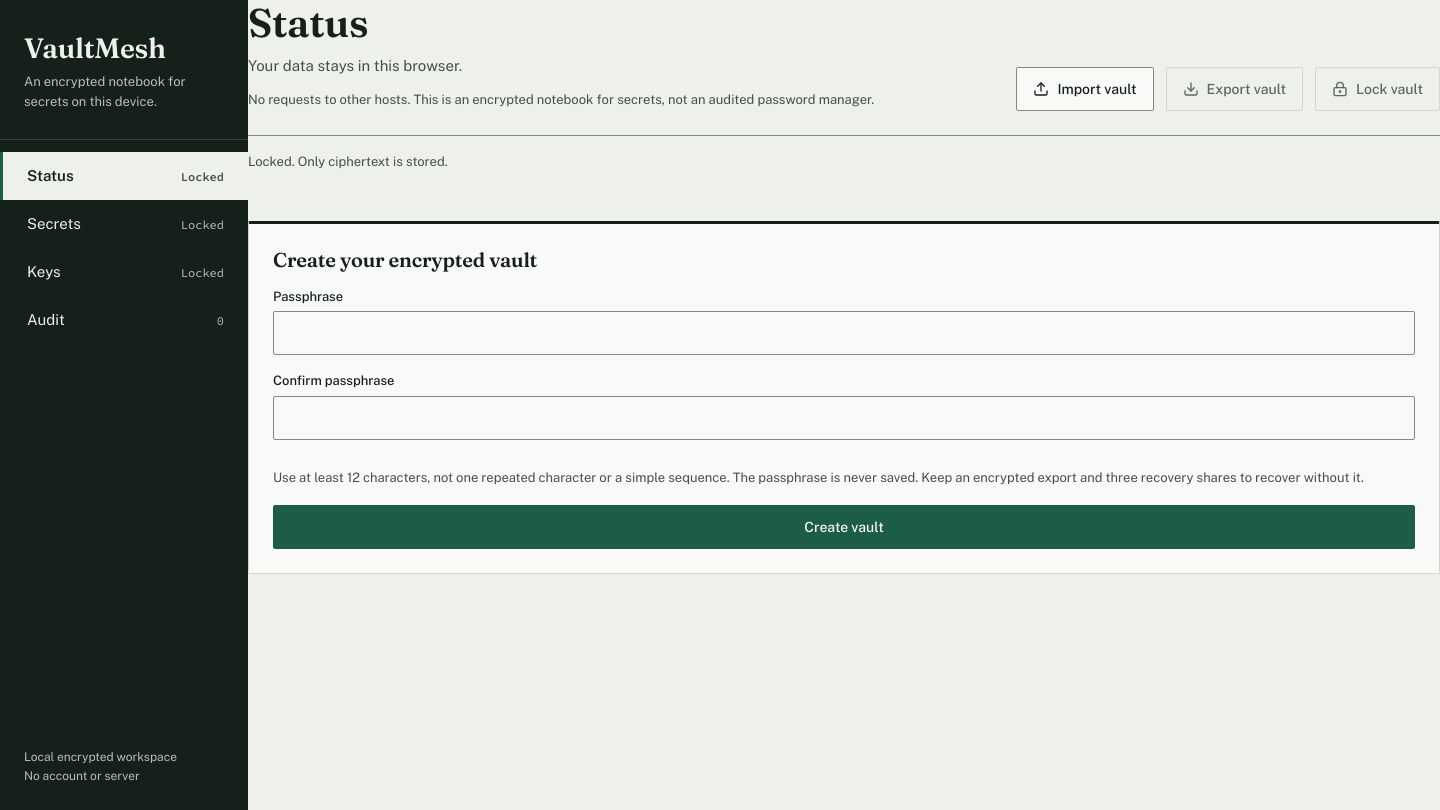
it: local encrypted notebook › moves focus to the secret form when editing
Step 1. Type "synthetic page passphrase" into the password field labelled "Passphrase" → [844, 333], box left=273, top=311, right=1415, bottom=355
Step 2. Type "synthetic page passphrase" into the password field labelled "Confirm passphrase" → [844, 418], box left=273, top=396, right=1415, bottom=440
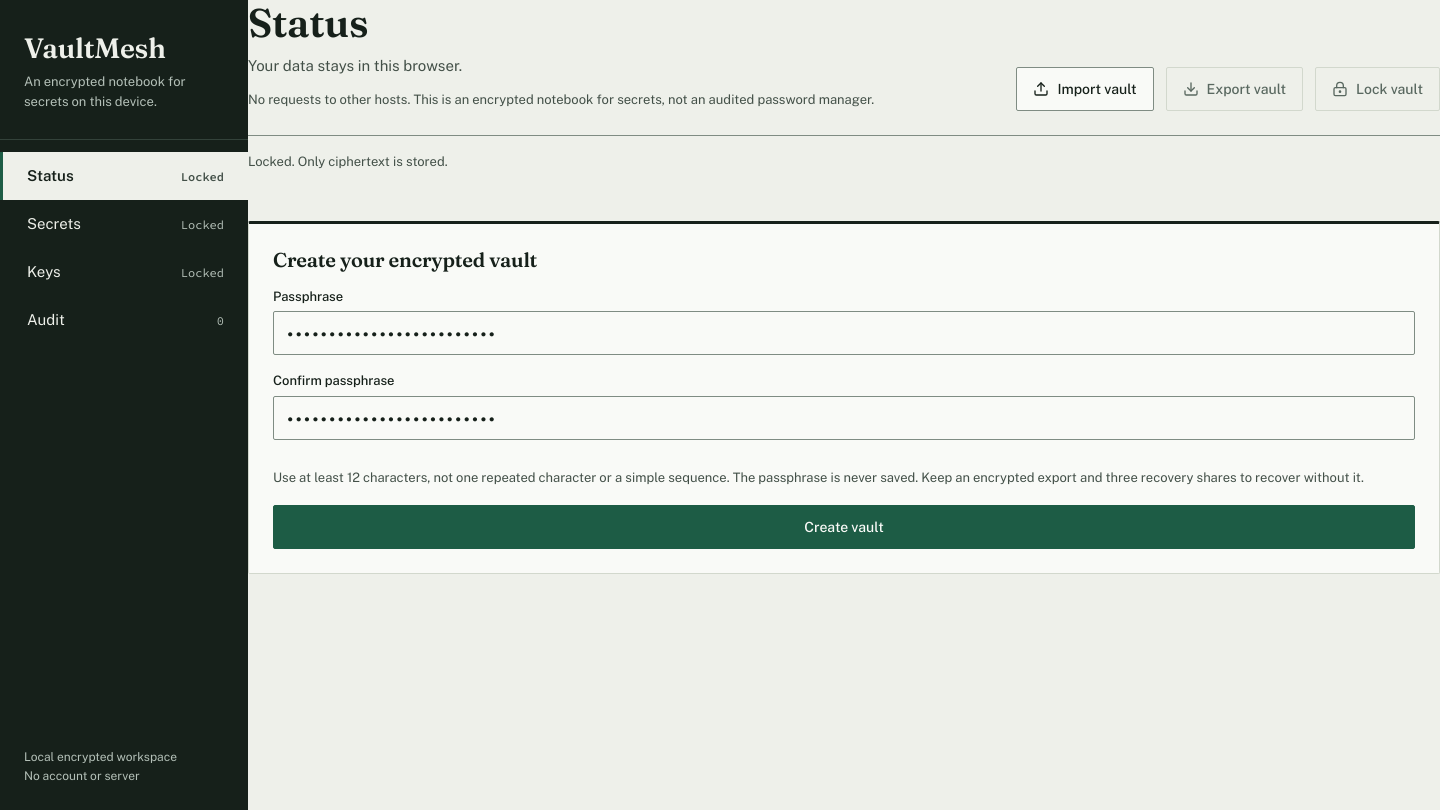
Step 3. Click the button "Create vault" → [844, 527], box left=273, top=505, right=1415, bottom=549
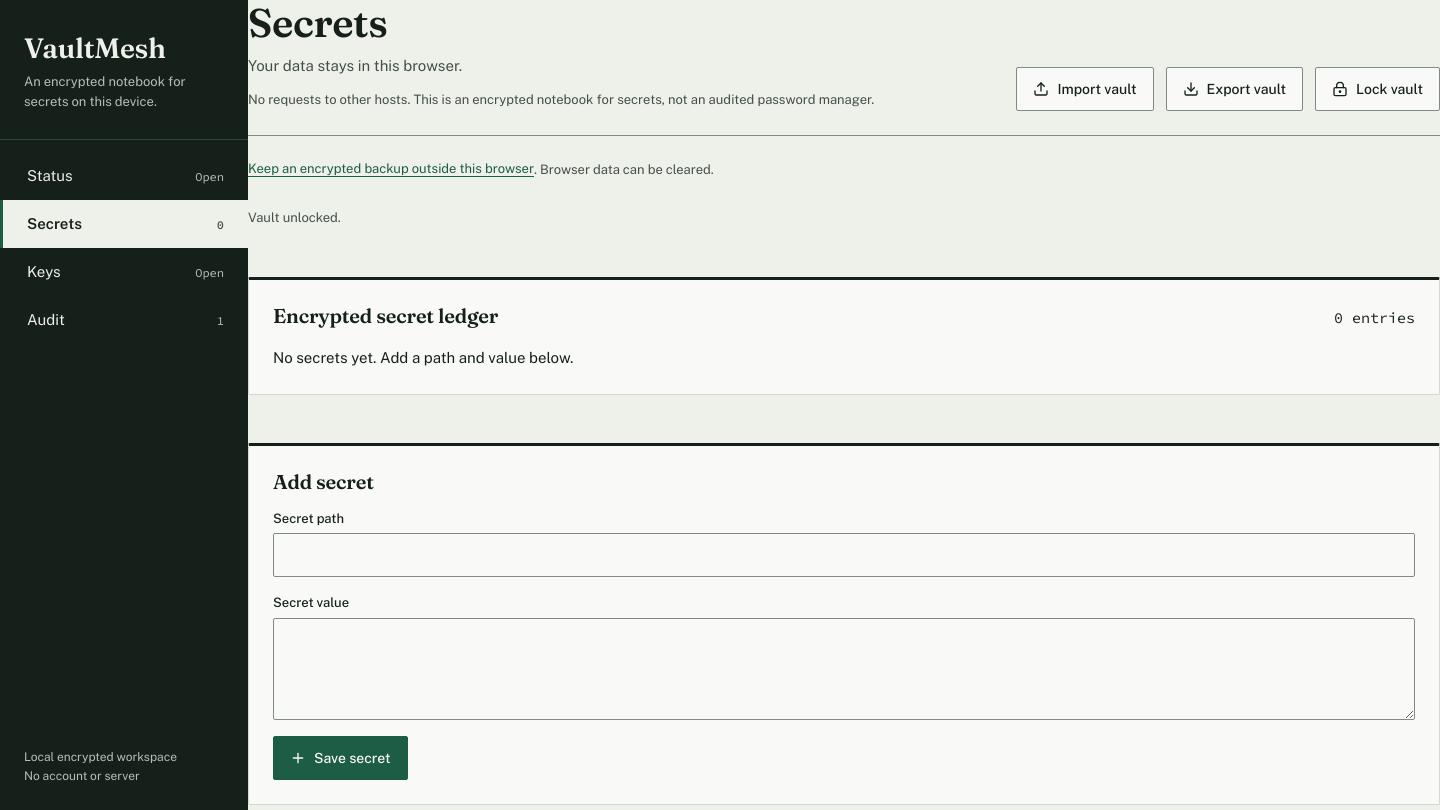
Check: the text "Vault unlocked." is shown, box left=248, top=210, right=341, bottom=225
Step 4. Type "synthetic/path" into the field labelled "Secret path" → [844, 555], box left=273, top=533, right=1415, bottom=577
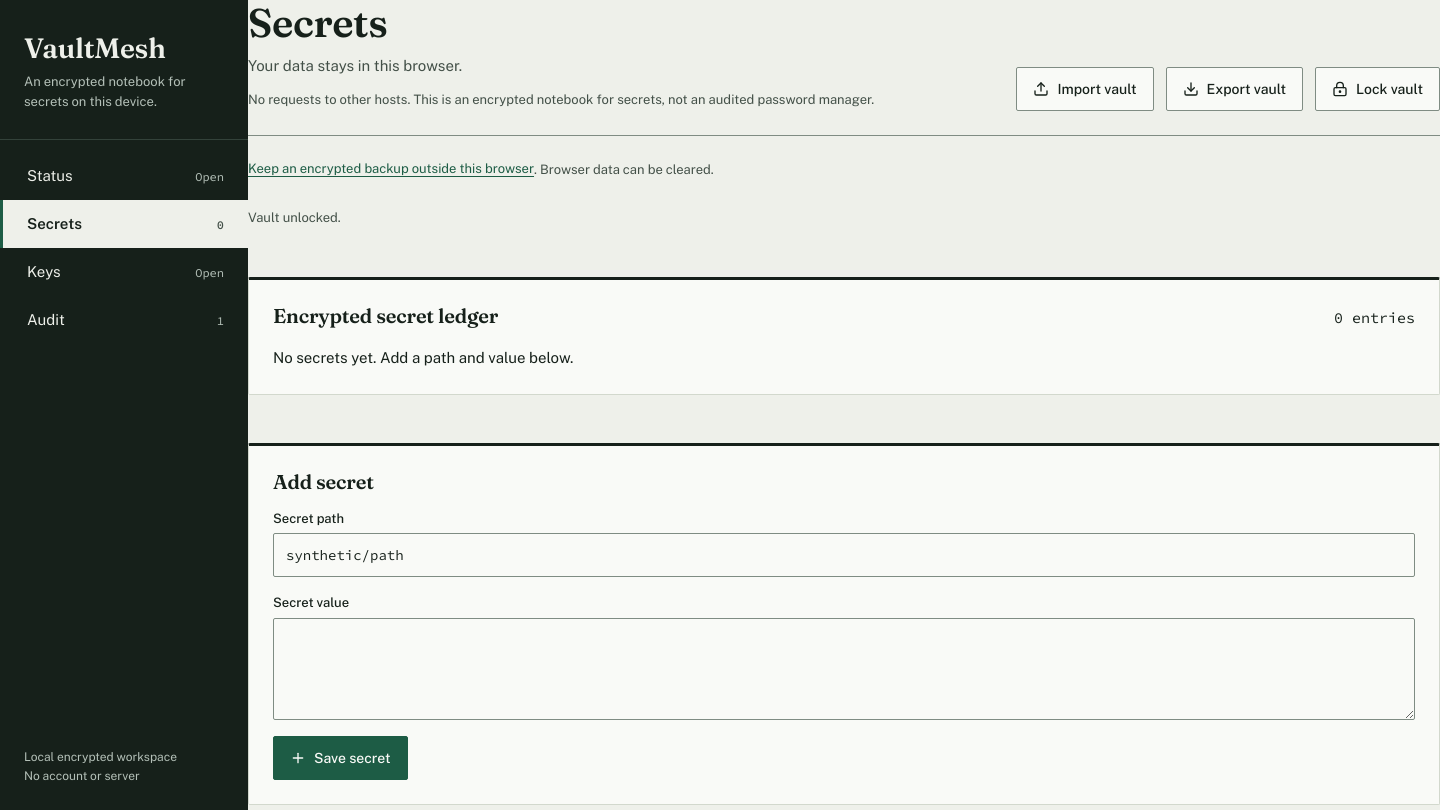
Step 5. Type "synthetic plaintext" into the text box labelled "Secret value" → [844, 669], box left=273, top=618, right=1415, bottom=720
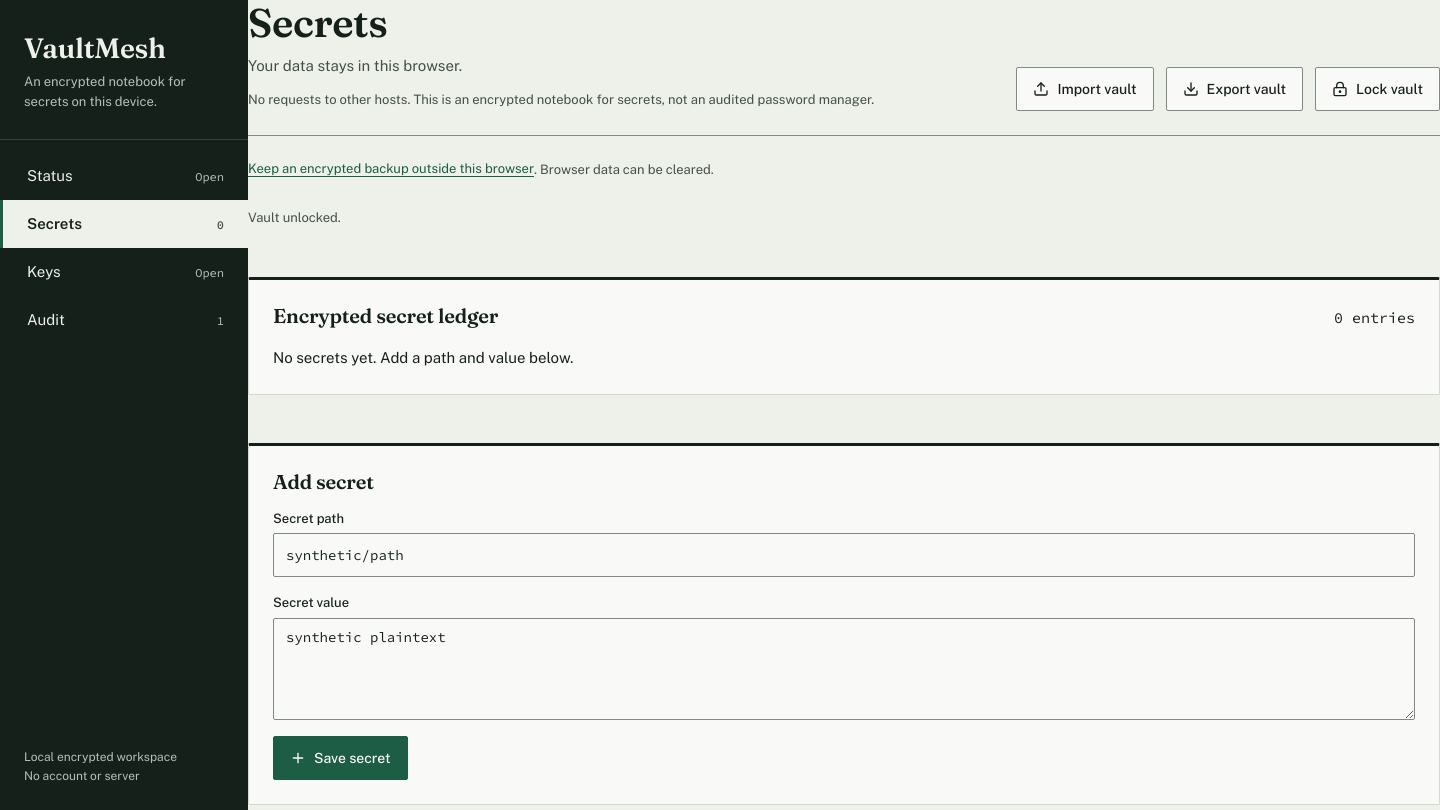
Step 6. Click the button "Save secret" → [340, 758], box left=273, top=736, right=408, bottom=780
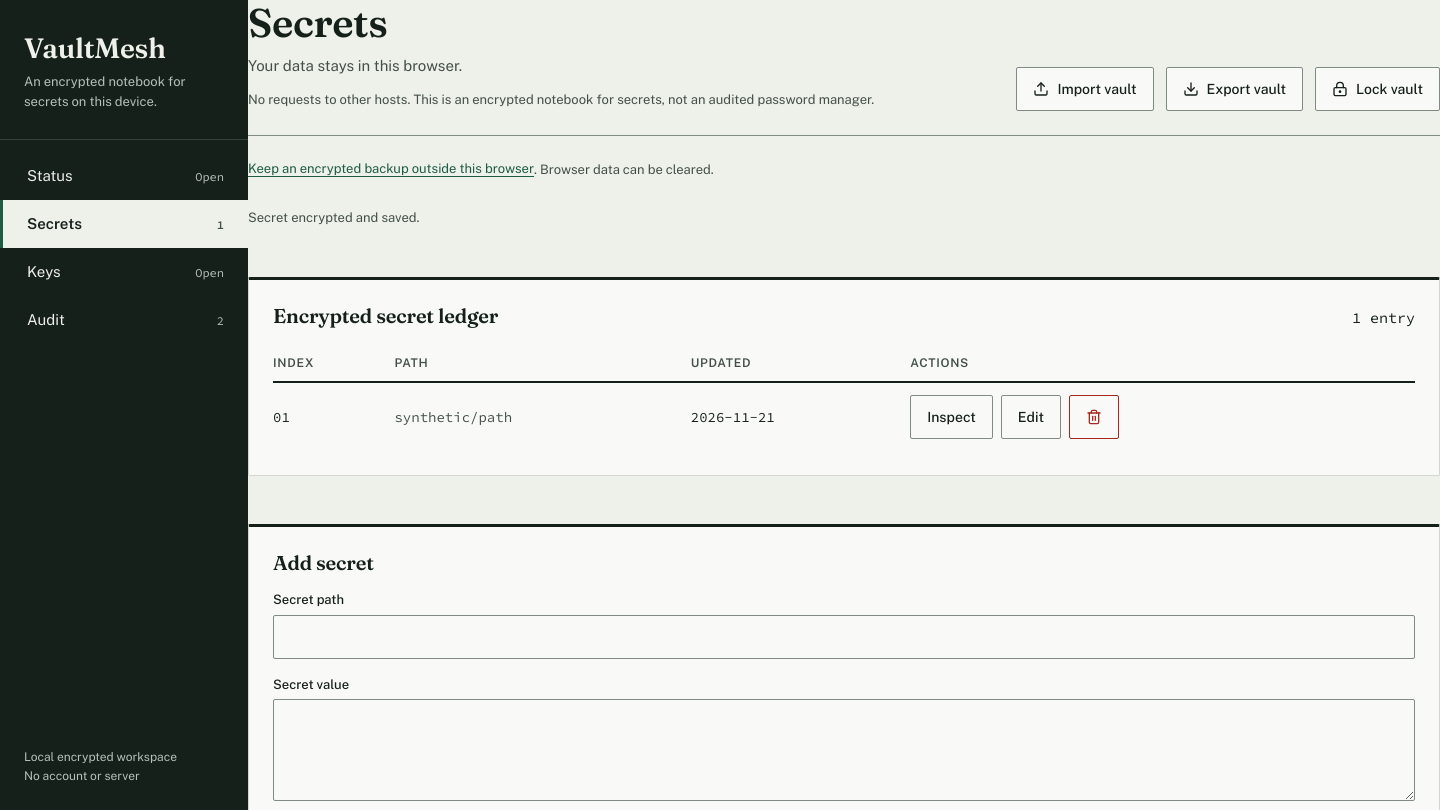
Check: the text "Secret encrypted and saved." is shown, box left=248, top=210, right=420, bottom=225
Step 7. Click the button named "Edit synthetic/path" → [1031, 417], box left=1001, top=395, right=1061, bottom=439
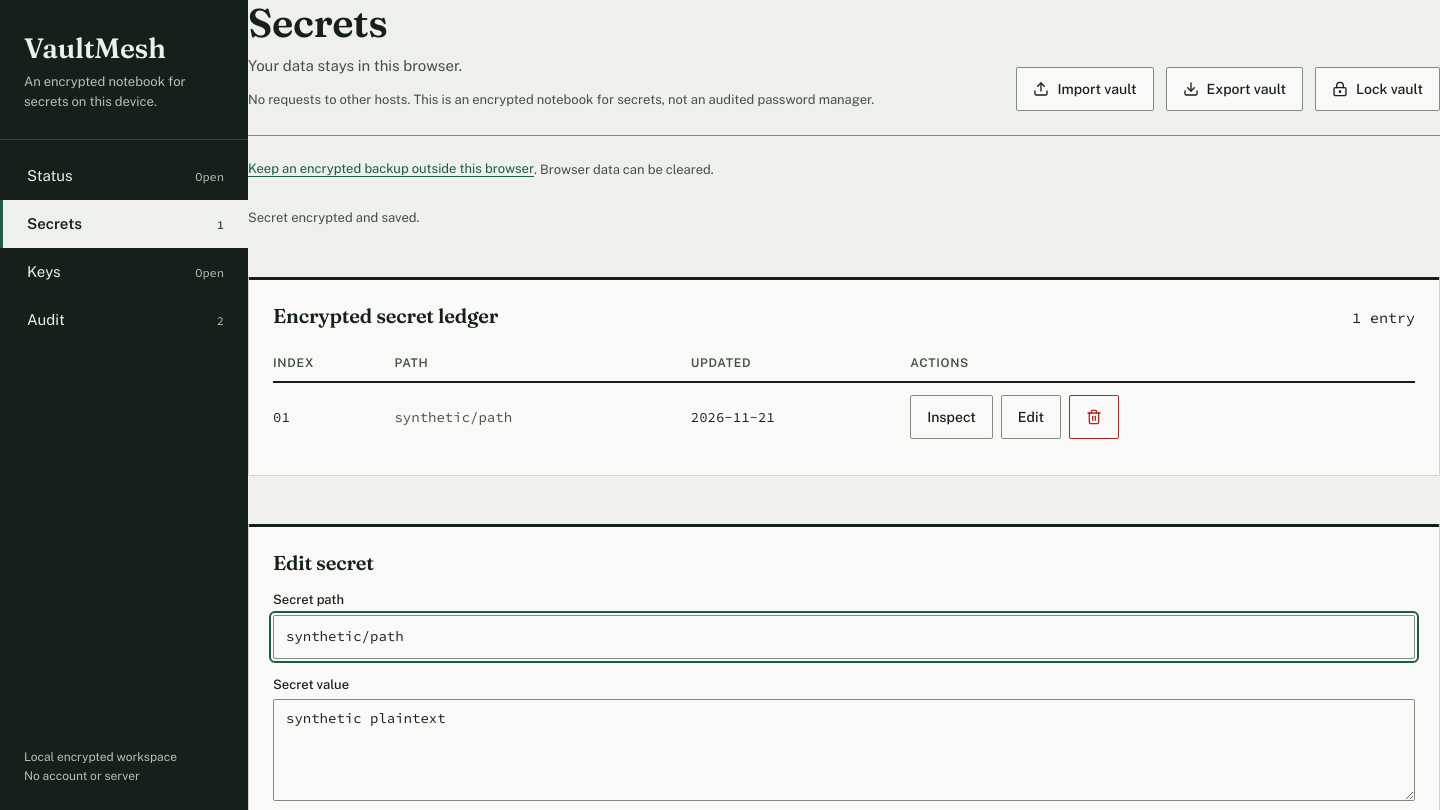
Check: the heading "Edit secret" is shown, box left=273, top=551, right=374, bottom=574
